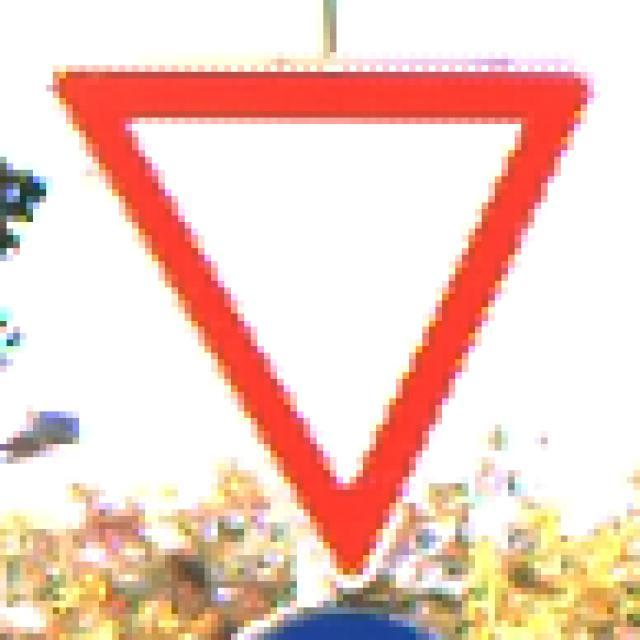give way: (49, 53, 601, 594)
